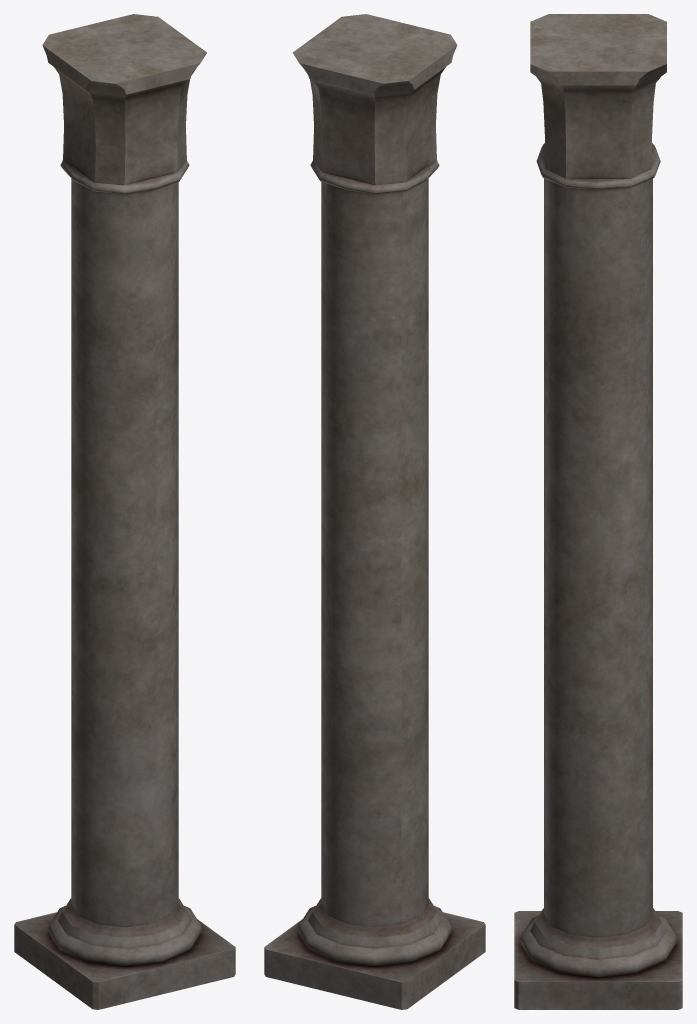
Rendered from sb_obj_outdoor009_AncientTemple_pillar01A.fbx.
The picture shows the model from 3 angles, left to right: view 1: azimuth 30°, elevation 25°; view 2: azimuth 150°, elevation 25°; view 3: azimuth 270°, elevation 25°; orthographic projection.
Visible parts, largest first — view 1: sb_obj_outdoor009_AncientTemple_pillar01A; view 2: sb_obj_outdoor009_AncientTemple_pillar01A; view 3: sb_obj_outdoor009_AncientTemple_pillar01A.
Boxes of the visible parts, x1=… form: sb_obj_outdoor009_AncientTemple_pillar01A: x1=14, y1=14, x2=235, y2=1009; sb_obj_outdoor009_AncientTemple_pillar01A: x1=264, y1=14, x2=485, y2=1009; sb_obj_outdoor009_AncientTemple_pillar01A: x1=514, y1=14, x2=682, y2=1009.
Size of the model in its own units: 1.64 by 10.01 by 1.64.
